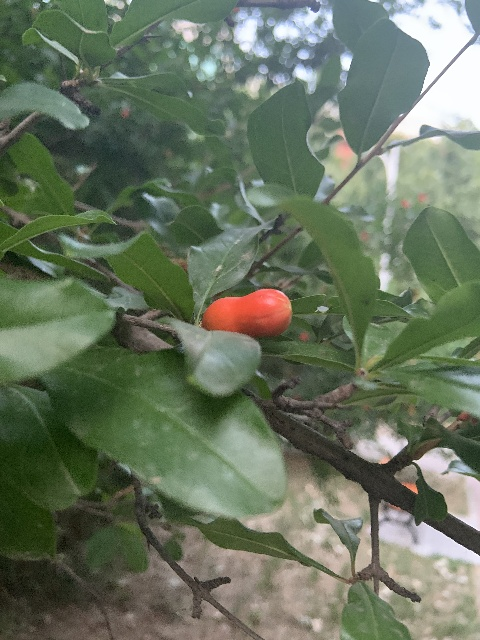bud: (201, 288, 292, 339)
